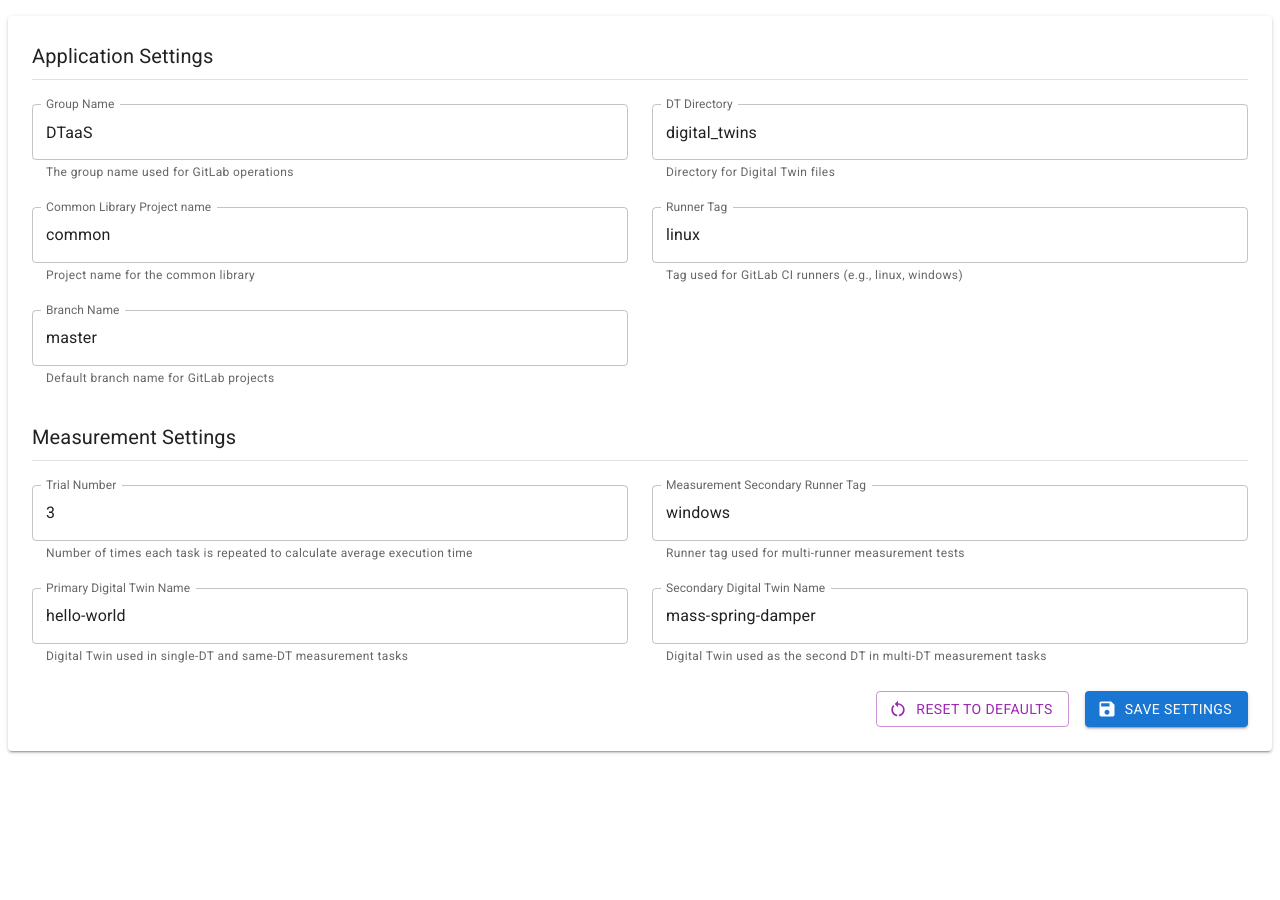
Test case: SettingsForm › close button hides the notification immediately
What coordinates should you click on to do the following:
click the button "Save Settings"
I would click on:
 (1166, 709)
Its box is [1085, 690, 1248, 727].
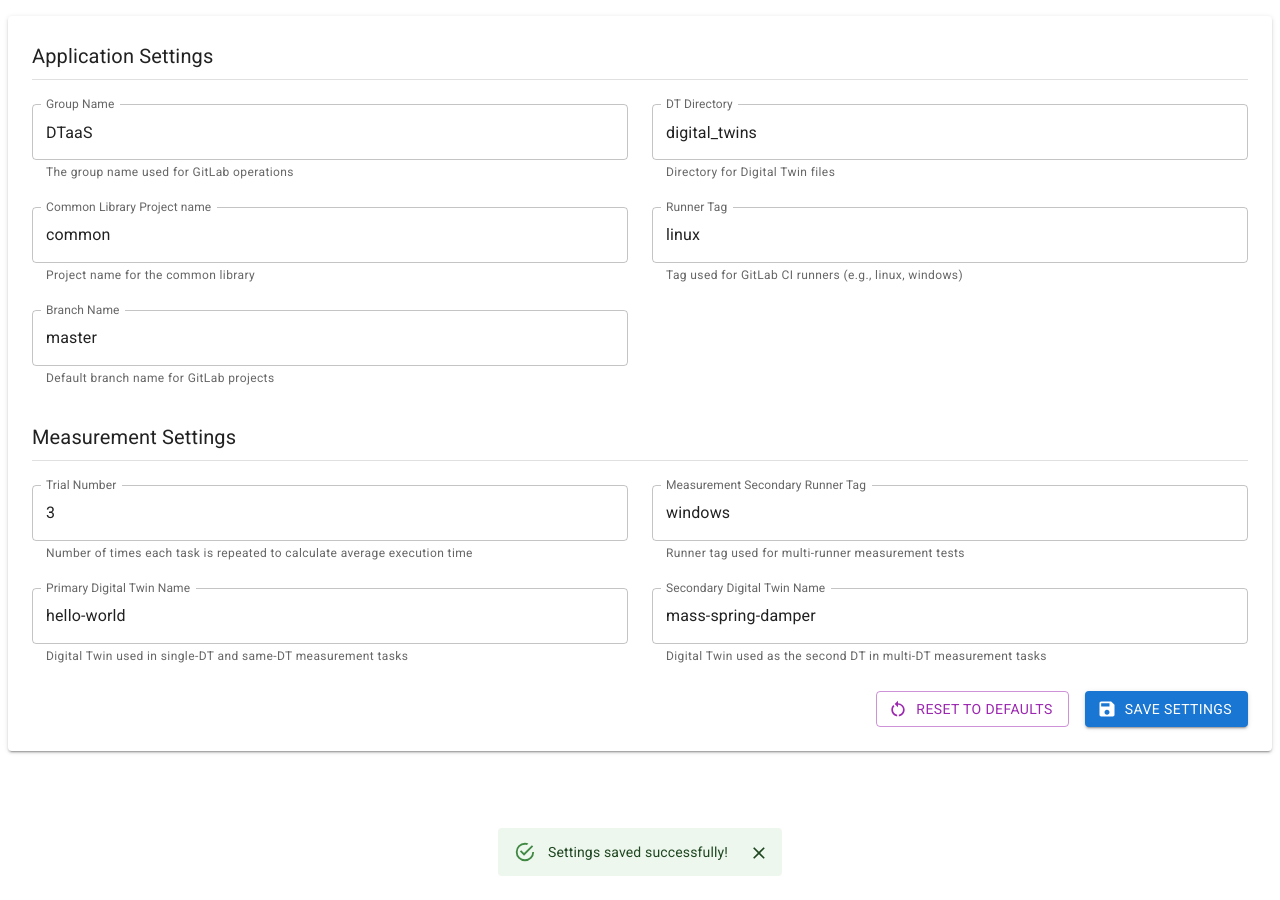
What coordinates should you click on to do the following:
click the button named "close"
I would click on:
 (759, 853)
Its box is [744, 838, 774, 868].
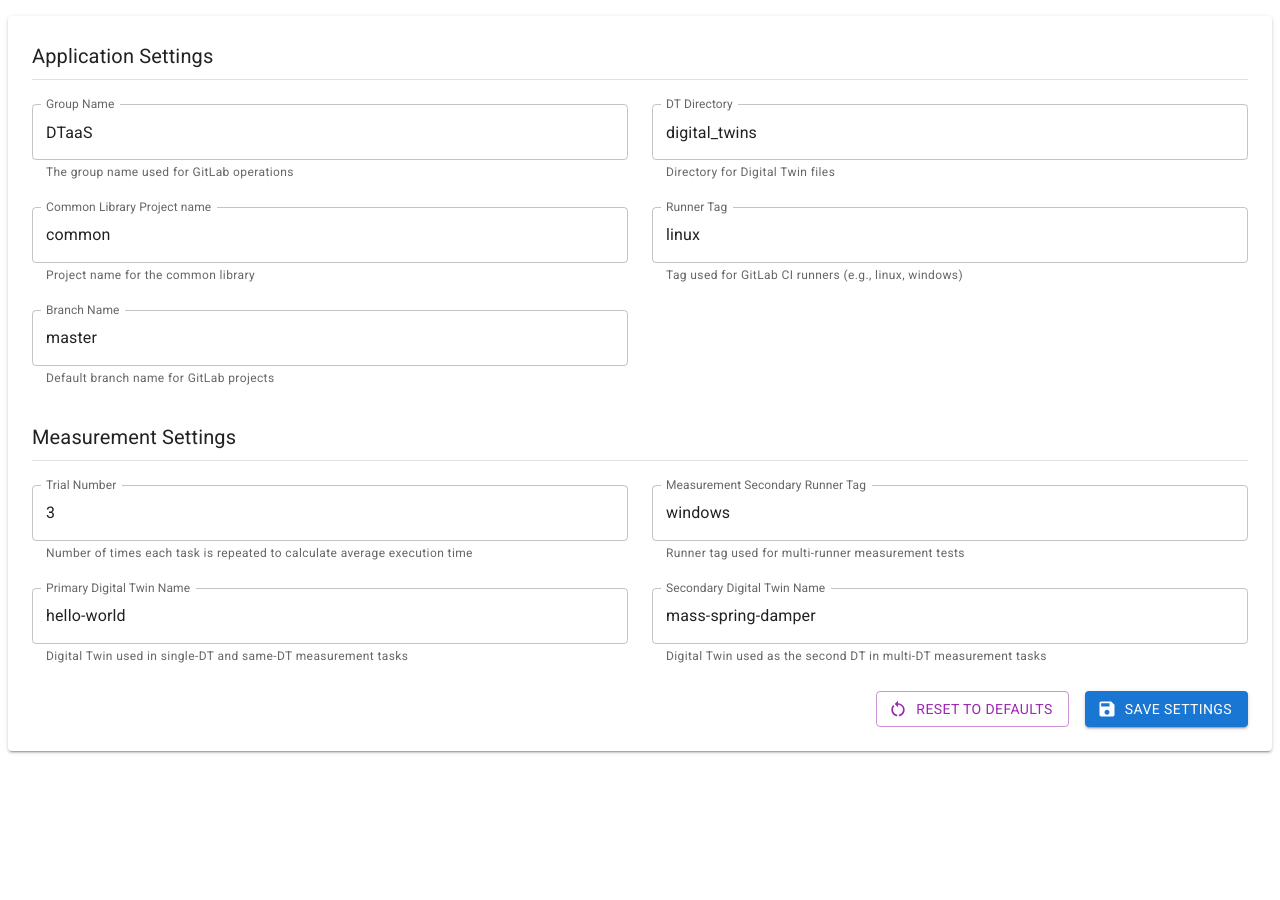
Expected: the message "Settings saved successfully!" is gone
